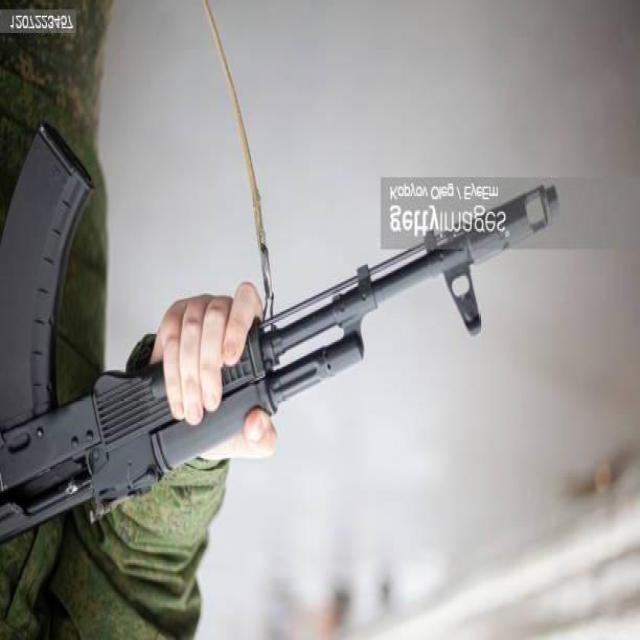weapon: (0, 120, 562, 547)
